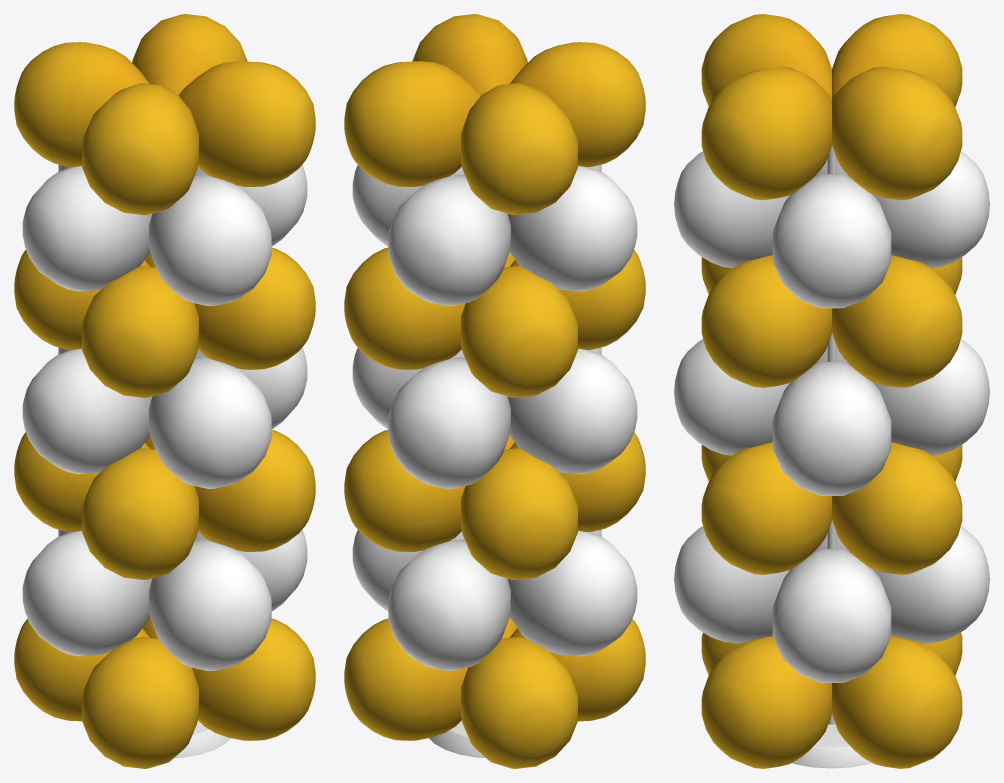
File: PartyBalloons03_GR8_4.FBX
The picture shows the model from 3 angles, left to right: view 1: azimuth 30°, elevation 25°; view 2: azimuth 150°, elevation 25°; view 3: azimuth 270°, elevation 25°; orthographic projection. The views are drawn at different scales.
Parts seen in each view (by area): view 1: PartyBalloons03_GR8_4; view 2: PartyBalloons03_GR8_4; view 3: PartyBalloons03_GR8_4.
Part boxes in pixels (box(x1,y1,x2,y2)): PartyBalloons03_GR8_4: box(14, 14, 315, 768); PartyBalloons03_GR8_4: box(344, 14, 645, 768); PartyBalloons03_GR8_4: box(674, 14, 989, 768).
Size of what is drawn, in the model's own units: 0.7585 by 1.83 by 0.7585.
